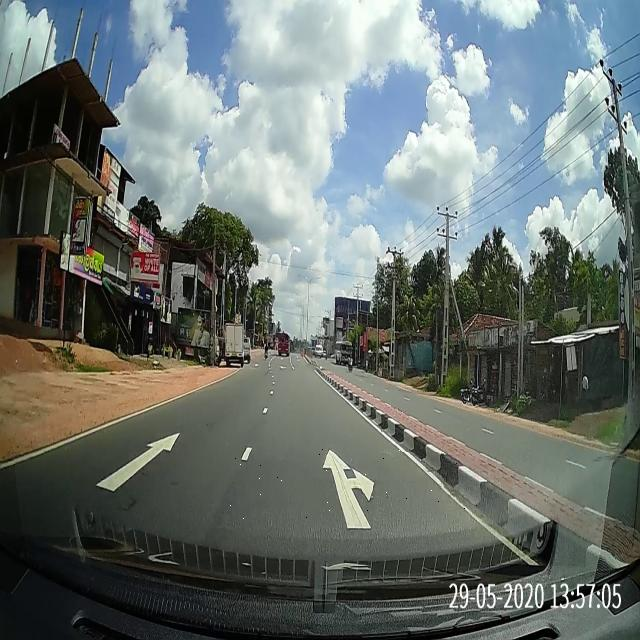forward_right: (213, 445, 486, 526), (223, 462, 455, 497), (227, 453, 444, 487), (225, 457, 437, 481)
